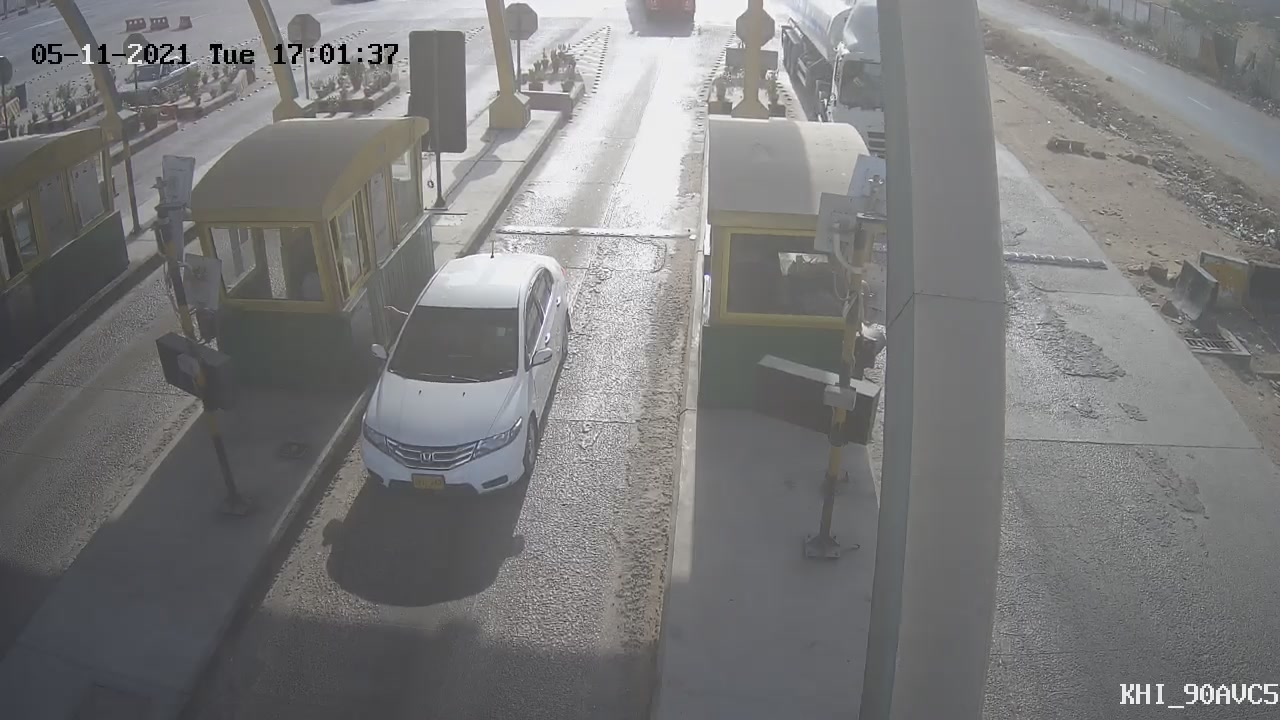F1: (327, 229, 599, 525)
